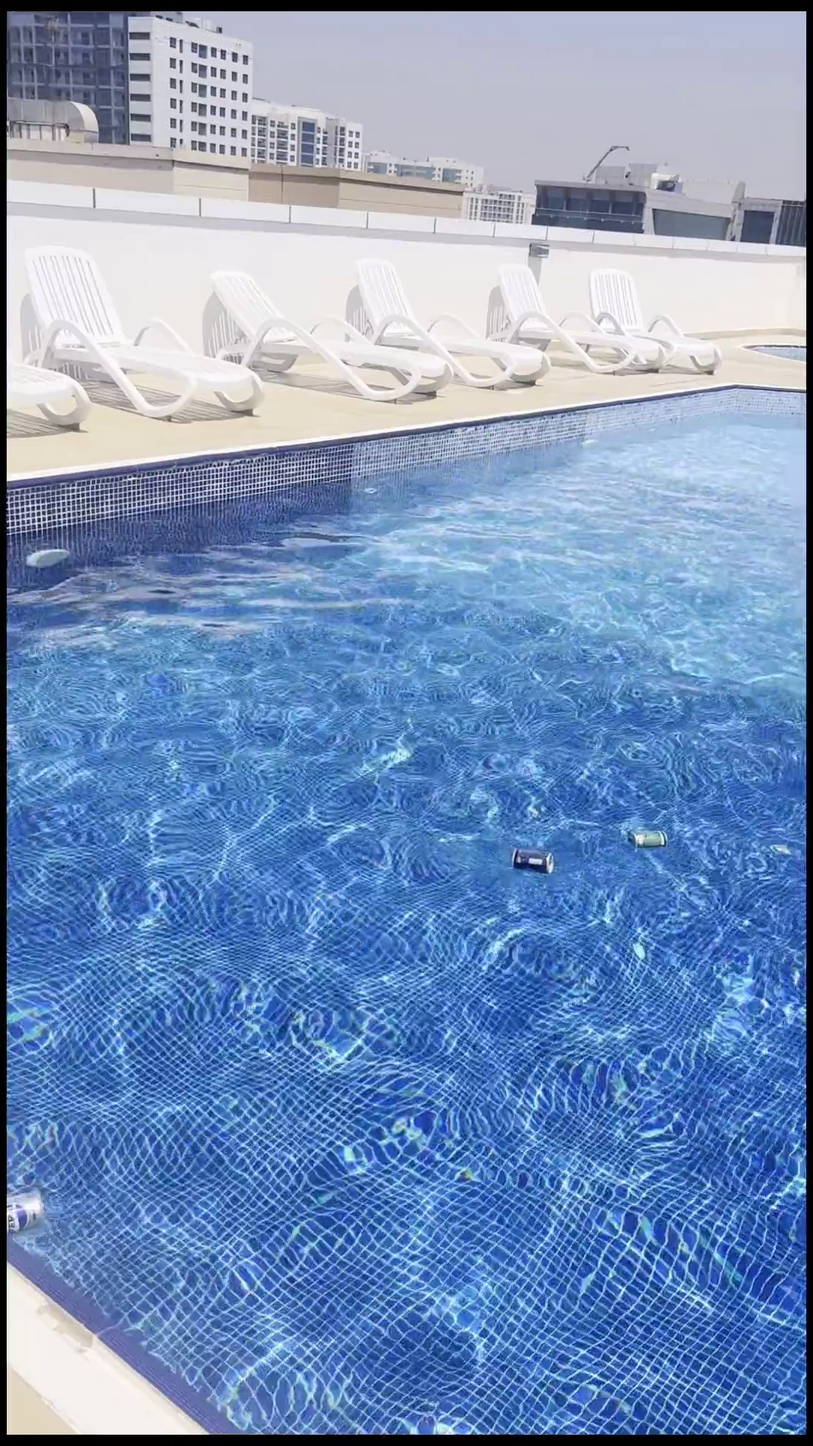debris: (8, 1169, 47, 1250), (620, 808, 668, 868), (506, 831, 554, 885)
